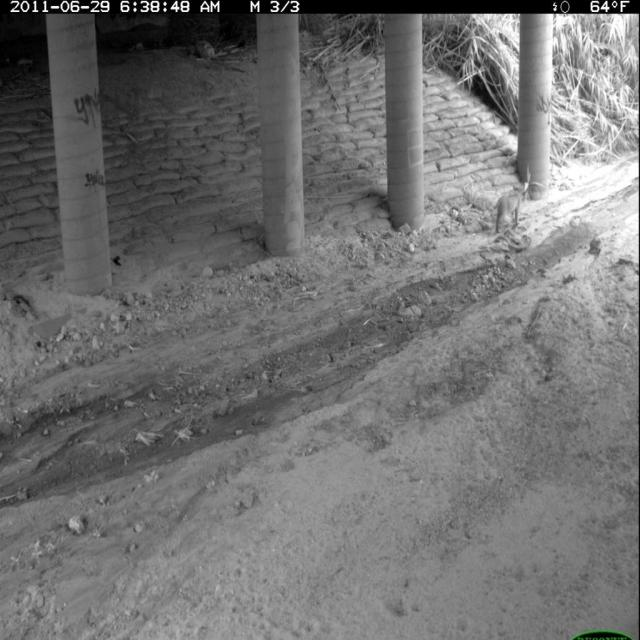bobcat: (491, 180, 534, 244)
